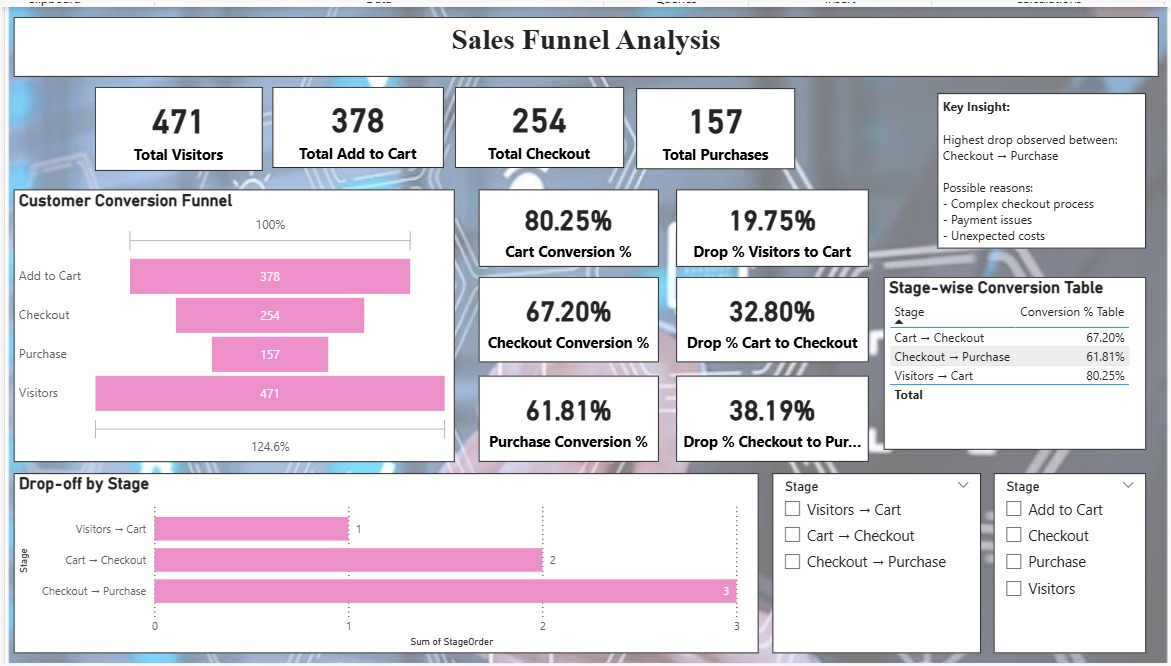

The page's visual inventory and layout, read from the dashboard file:
{"tool":"powerbi","page":{"name":"Sales Funnel Analysis","canvas":[1280,720],"ordinal":4},"visuals":[{"type":"textbox","box":[9.6,11,1257,65.9],"z":0},{"type":"card","fields":{"Values":["website_activity.Total Visitors"]},"box":[98.8,87.8,183.9,91.9],"z":2},{"type":"card","fields":{"Values":["website_activity.Total Purchases"]},"box":[693,89.2,174.3,89.2],"z":3},{"type":"card","fields":{"Values":["website_activity.Total Checkout"]},"box":[494,87.8,185.2,89.2],"z":4},{"type":"card","fields":{"Values":["website_activity.Total Add to Cart"]},"box":[293.7,87.8,188,89.2],"z":5},{"type":"funnel","title":"Customer Conversion Funnel","fields":{"Category":["Funnel Stages.Stage"],"Y":["Funnel Stages.Funnel Value"]},"box":[9.6,200.3,484.4,299.1],"z":6},{"type":"card","fields":{"Values":["website_activity.Cart Conversion %"]},"box":[520.1,200.3,197.6,85.1],"z":7},{"type":"card","fields":{"Values":["website_activity.Checkout Conversion %"]},"box":[520.1,296.4,197.6,93.3],"z":8},{"type":"card","fields":{"Values":["website_activity.Purchase Conversion %"]},"box":[520.1,404.8,197.6,94.7],"z":9},{"type":"card","fields":{"Values":["website_activity.Drop % Visitors to Cart"]},"box":[736.9,200.3,211.3,85.1],"z":10},{"type":"card","fields":{"Values":["website_activity.Drop % Cart to Checkout"]},"box":[736.9,296.4,211.3,93.3],"z":11},{"type":"card","fields":{"Values":["website_activity.Drop % Checkout to Purchase"]},"box":[736.9,404.8,211.3,94.7],"z":12},{"type":"textbox","box":[1023.7,94.7,229.2,170.2],"z":13},{"type":"clusteredBarChart","title":"Drop-off by Stage","fields":{"Category":["DropStages.Stage"],"Y":["Sum(DropStages.StageOrder)"]},"box":[9.6,511.8,817.8,197.6],"z":14},{"type":"tableEx","title":"Stage-wise Conversion Table","fields":{"Values":["Conversion Table.Stage","Conversion Table.Conversion % Table"]},"box":[964.7,296.4,288.2,189.4],"z":15},{"type":"slicer","fields":{"Values":["DropStages.Stage"]},"box":[842.5,511.8,229.2,197.6],"z":16},{"type":"slicer","fields":{"Values":["Funnel Stages.Stage"]},"box":[1085.4,511.8,167.4,197.6],"z":17}]}

Visuals, with their boxes in screenshot pixels (x1, y1, x2, y2):
textbox: <box>18,16,1152,75</box>
card - website_activity.Total Visitors: <box>98,85,264,168</box>
card - website_activity.Total Purchases: <box>634,87,792,167</box>
card - website_activity.Total Checkout: <box>455,85,622,166</box>
card - website_activity.Total Add to Cart: <box>274,85,444,166</box>
"Customer Conversion Funnel" funnel: <box>18,187,455,457</box>
card - website_activity.Cart Conversion %: <box>478,187,657,264</box>
card - website_activity.Checkout Conversion %: <box>478,274,657,358</box>
card - website_activity.Purchase Conversion %: <box>478,371,657,457</box>
card - website_activity.Drop % Visitors to Cart: <box>674,187,865,264</box>
card - website_activity.Drop % Cart to Checkout: <box>674,274,865,358</box>
card - website_activity.Drop % Checkout to Purchase: <box>674,371,865,457</box>
textbox: <box>933,92,1140,245</box>
"Drop-off by Stage" clusteredBarChart: <box>18,468,756,646</box>
"Stage-wise Conversion Table" tableEx: <box>880,274,1140,444</box>
slicer - DropStages.Stage: <box>769,468,976,646</box>
slicer - Funnel Stages.Stage: <box>988,468,1139,646</box>
